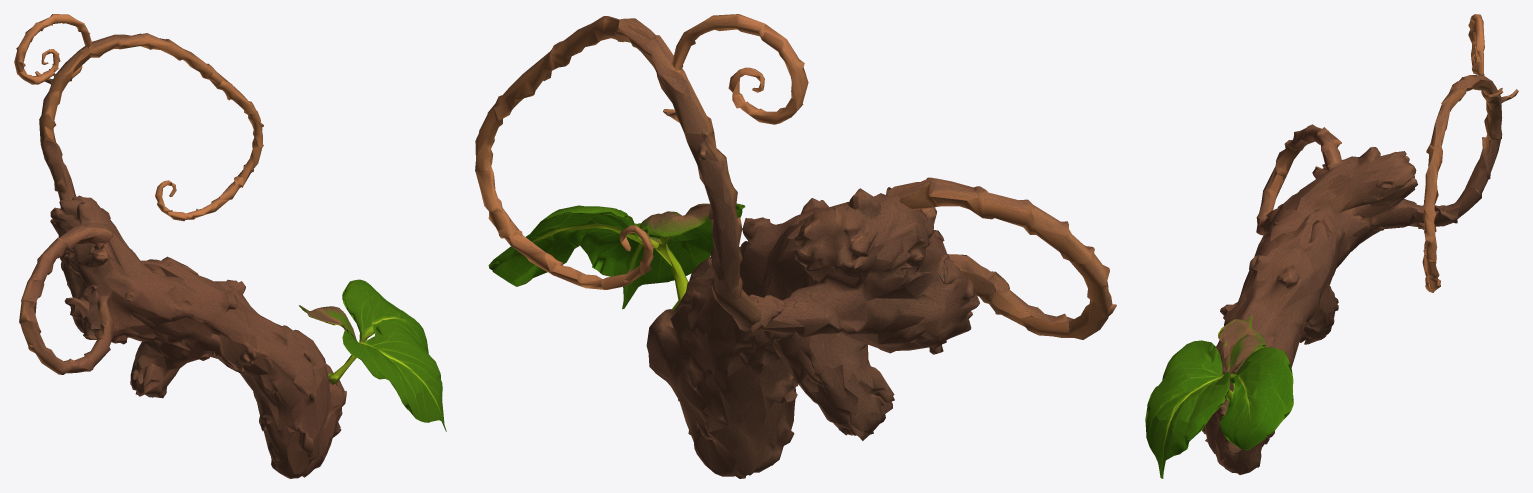
Rendered from liane-segment.glb.
The picture shows the model from 3 angles, left to right: view 1: azimuth 30°, elevation 25°; view 2: azimuth 150°, elevation 25°; view 3: azimuth 270°, elevation 25°; orthographic projection. The views are drawn at different scales.
Parts seen in each view (by area): view 1: mesh_node; view 2: mesh_node; view 3: mesh_node.
Boxes of the visible parts, x1,y1,x2,y2 form: mesh_node: [14, 14, 446, 478]; mesh_node: [475, 14, 1116, 478]; mesh_node: [1145, 14, 1518, 478].
Size of the model in its own units: 1.9 by 1.87 by 1.6.
Materials: 1 (1 with a texture image).
